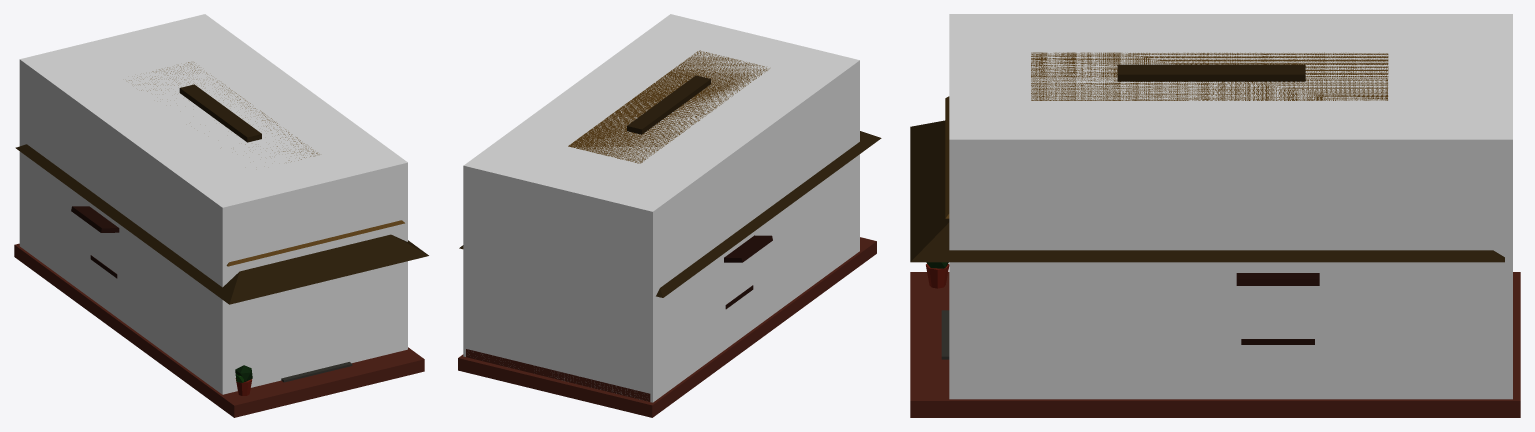
Rendered from CHN_017_thatch_house.glb.
3 renders of one model, left to right at view 1: azimuth 30°, elevation 25°; view 2: azimuth 150°, elevation 25°; view 3: azimuth 270°, elevation 25°, orthographic. The views are drawn at different scales.
Parts seen in each view (by area): view 1: COL_Main, LOD0; view 2: COL_Main, LOD0; view 3: COL_Main, LOD0.
Part boxes in pixels (x1,y1,x2,y2): COL_Main: (19,14,407,394); LOD0: (14,62,428,417); COL_Main: (463,14,859,402); LOD0: (458,50,881,417); COL_Main: (949,14,1512,399); LOD0: (910,52,1520,417).
Size of what is drawn, in the model's own units: 4.55 by 4 by 7.8.
